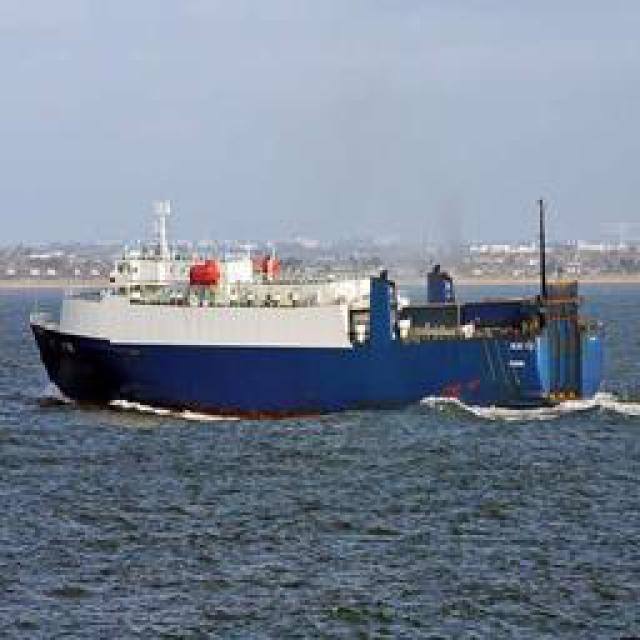Ship: (25, 245, 618, 423)
